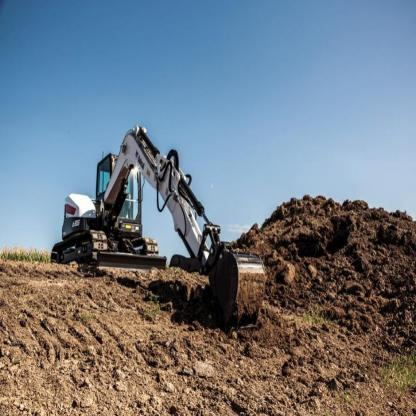excavator: (40, 109, 278, 346)
